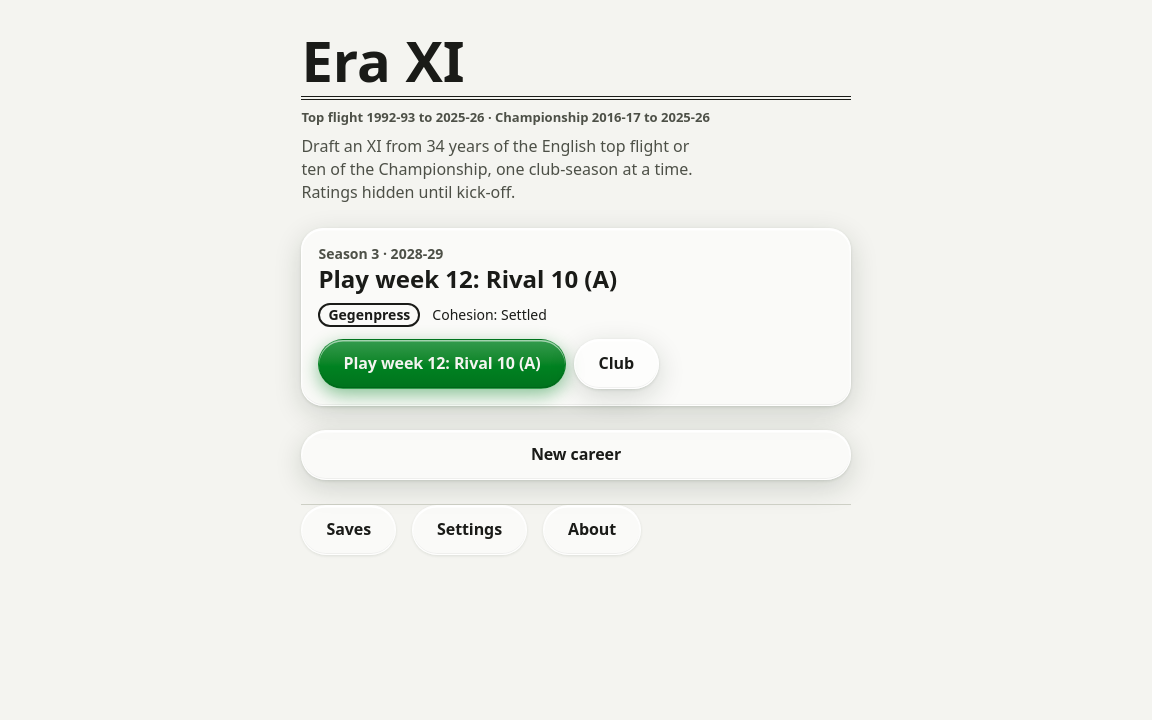
Scenario: App › keeps the next action out of reach while a Play to… run types in on the vidiprinter
The width and height of the screenshot is (1152, 720).
Step 1. Click the button "Play week 12: Rival 10 (A)" → (442, 364), box [318,339,566,389]
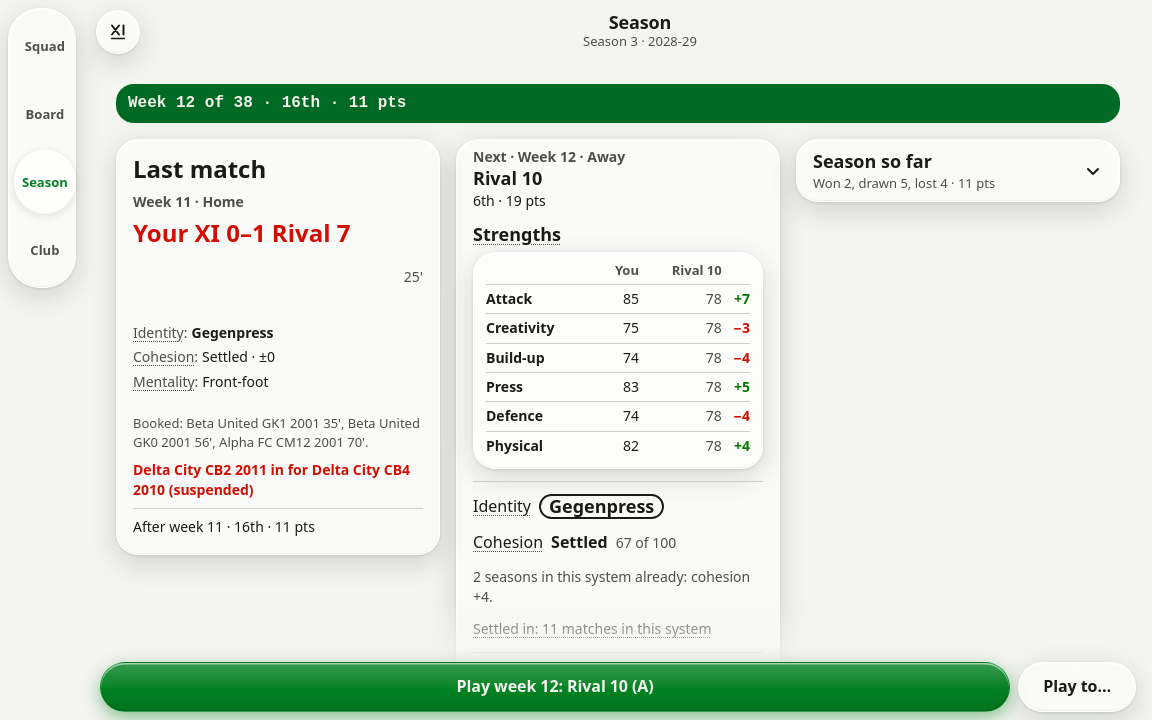
Step 2. Click the button "Play to…" → (1077, 687), box [1018,662,1136,712]
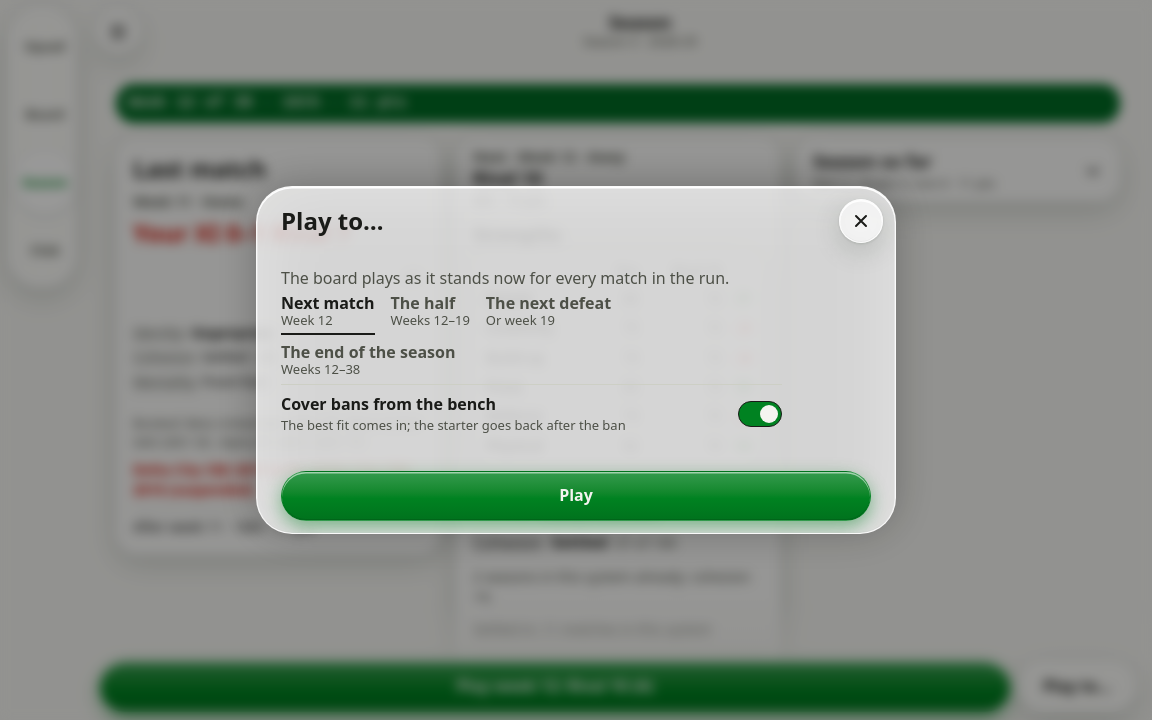
Step 3. Click the radio button labelled "The end of the season Weeks 12–38" → (368, 362), box [281,339,455,384]
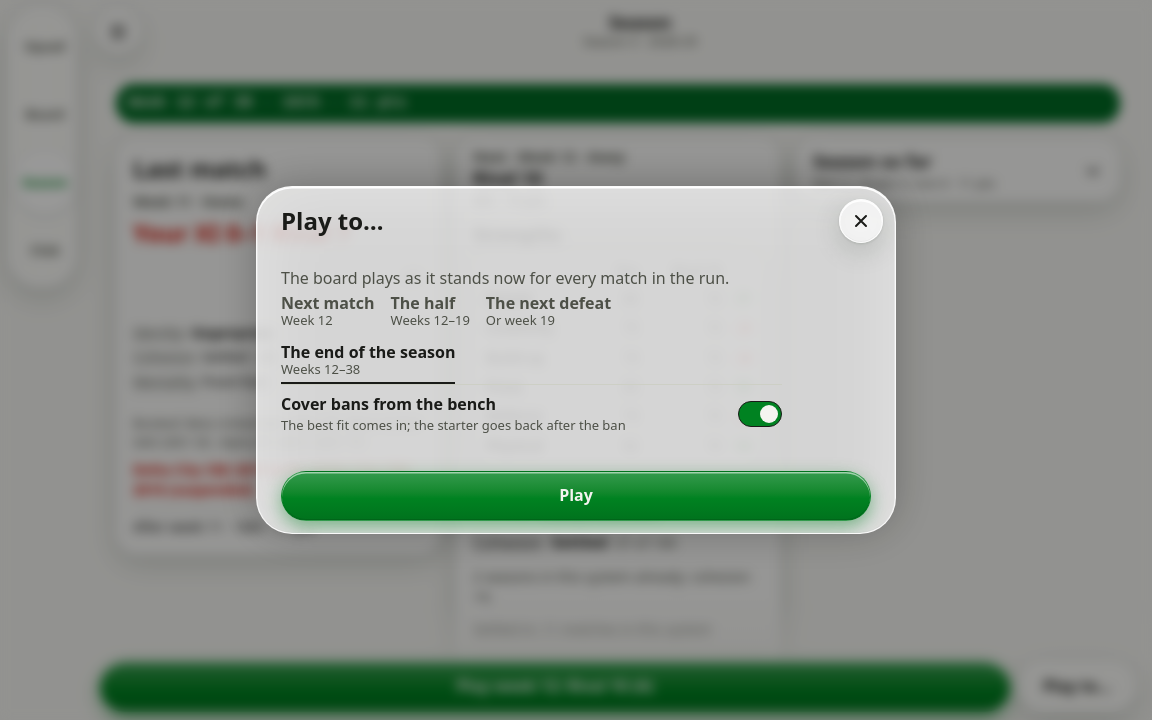
Step 4. Click the button "Play" → (576, 496), box [281,471,871,521]
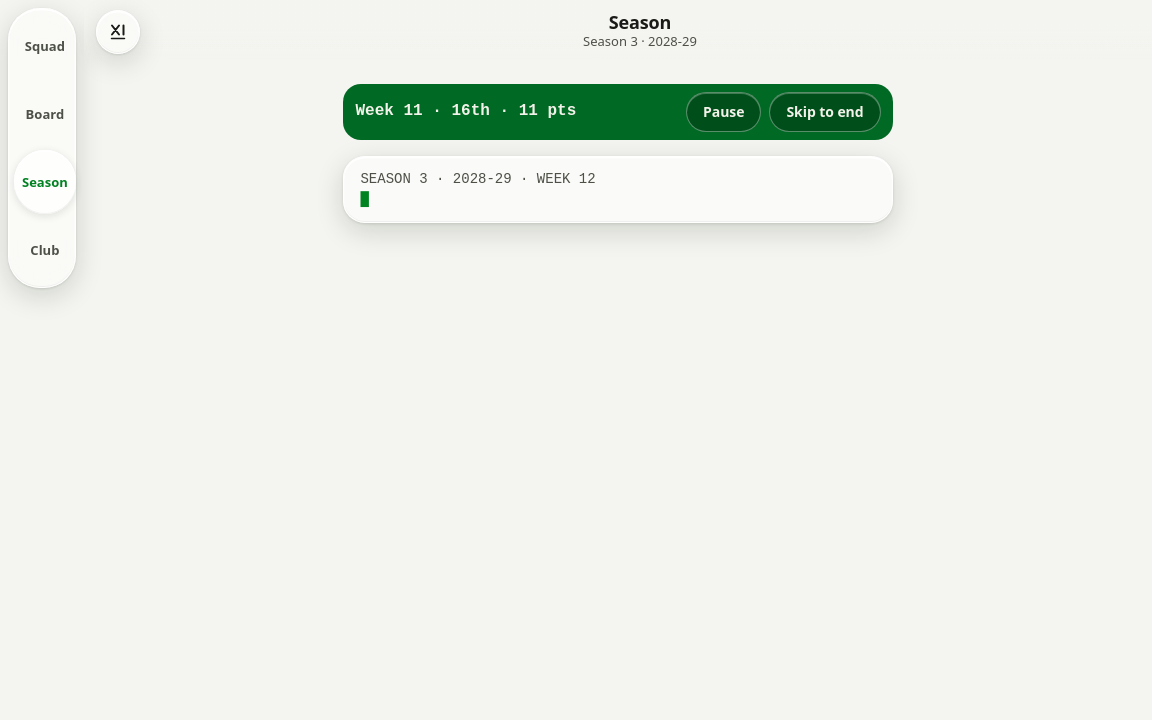
Expected: the button "Open the window" is not shown
Step 5. Press k
Step 6. Click the button "Skip to end" → (825, 112), box [769,92,880,132]
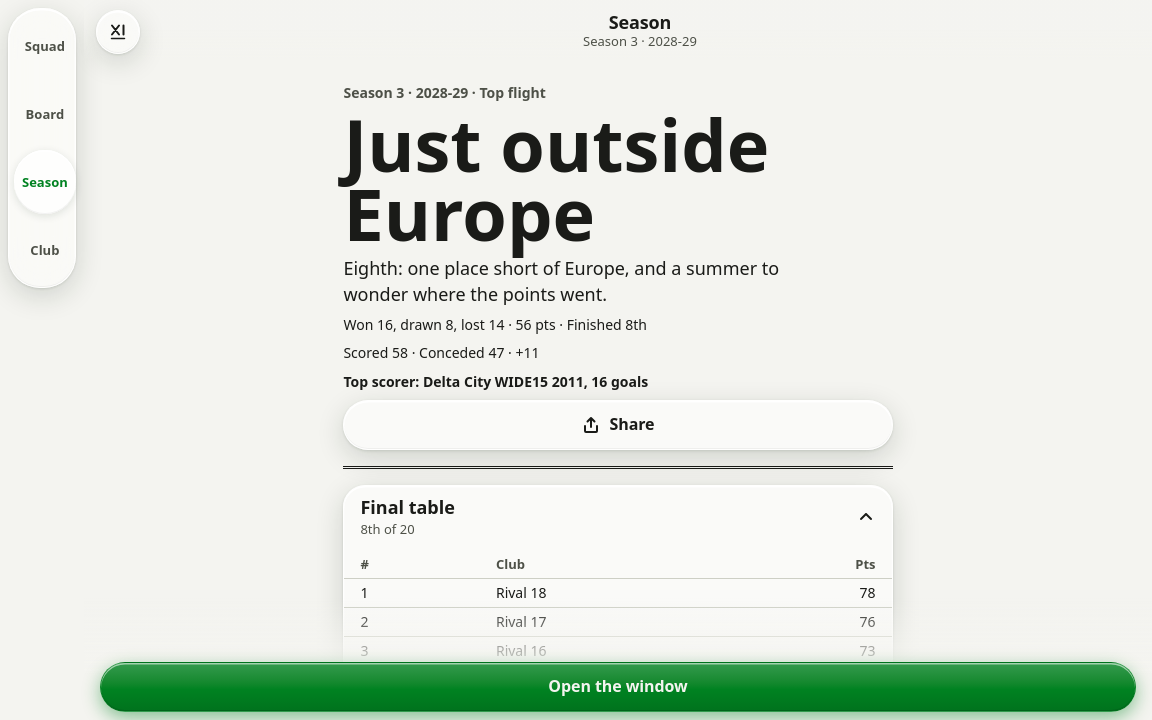
Result: the button "Open the window" is shown at [100,662,1136,712]
